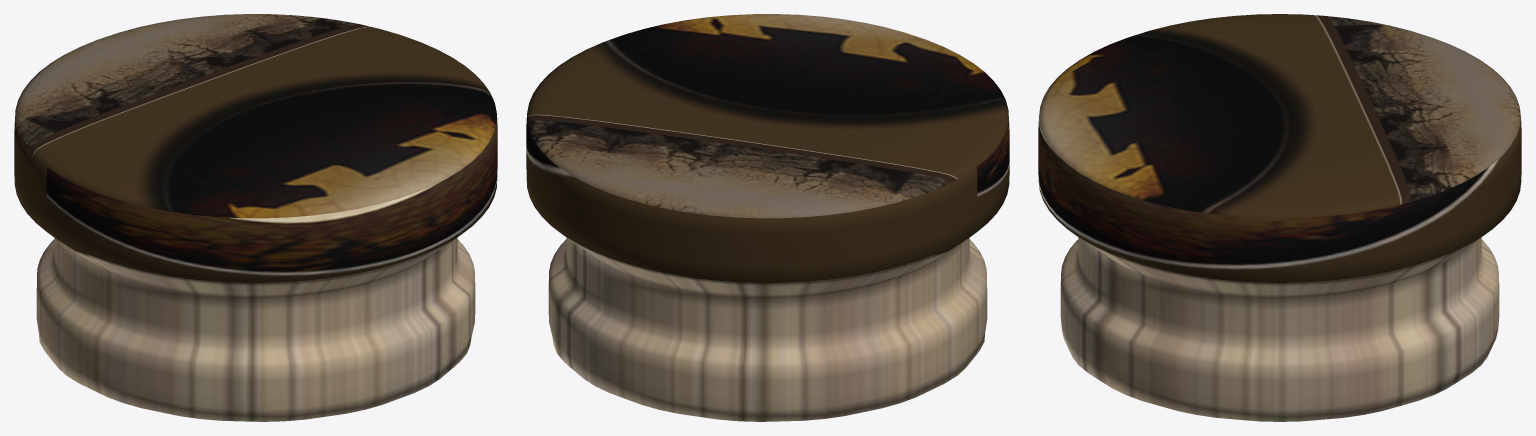
The model's file is ukuku2.gltf.
3 views of the same model, side by side, from view 1: azimuth 30°, elevation 25°; view 2: azimuth 150°, elevation 25°; view 3: azimuth 270°, elevation 25° (orthographic).
Bounding box in the file's own units: 1.95 × 0.9917 × 1.95.
Materials: 1 (1 with a texture image).
